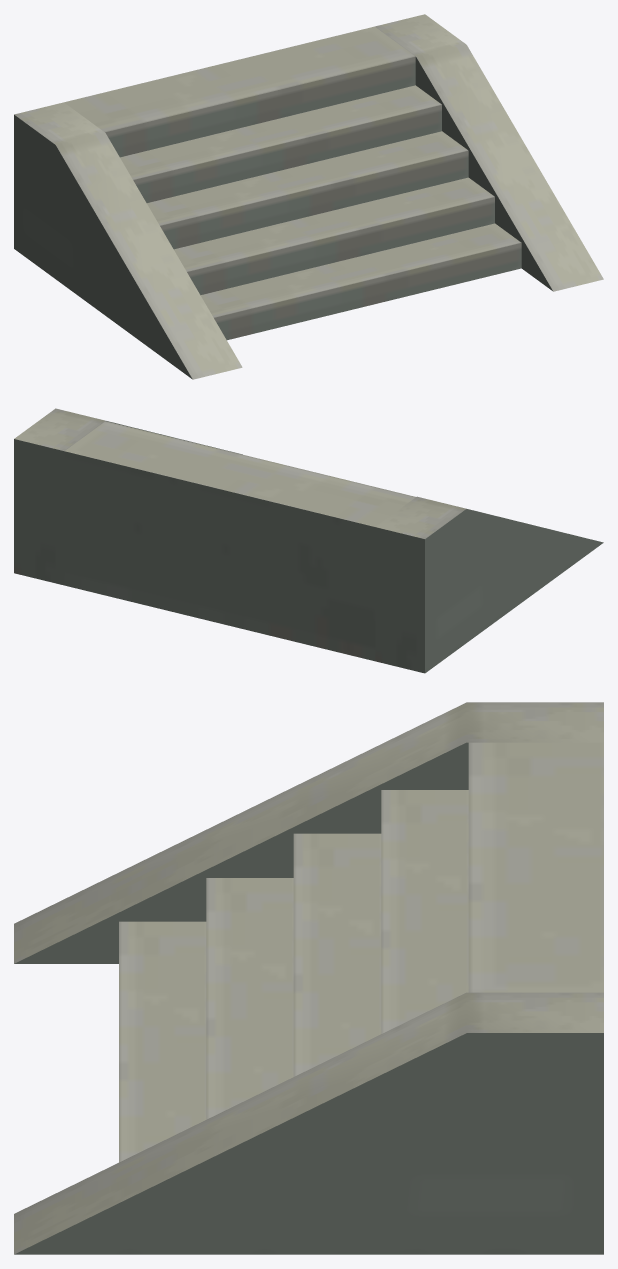
File: 0167_T_ZhenYin_LouTi01.glb
3 renders of one model, top to bottom at view 1: azimuth 30°, elevation 25°; view 2: azimuth 150°, elevation 25°; view 3: azimuth 270°, elevation 25°, orthographic. The views are drawn at different scales.
Size of the model in its own units: 2.2 by 0.6868 by 1.66.
Materials: 1 (1 with a texture image).
